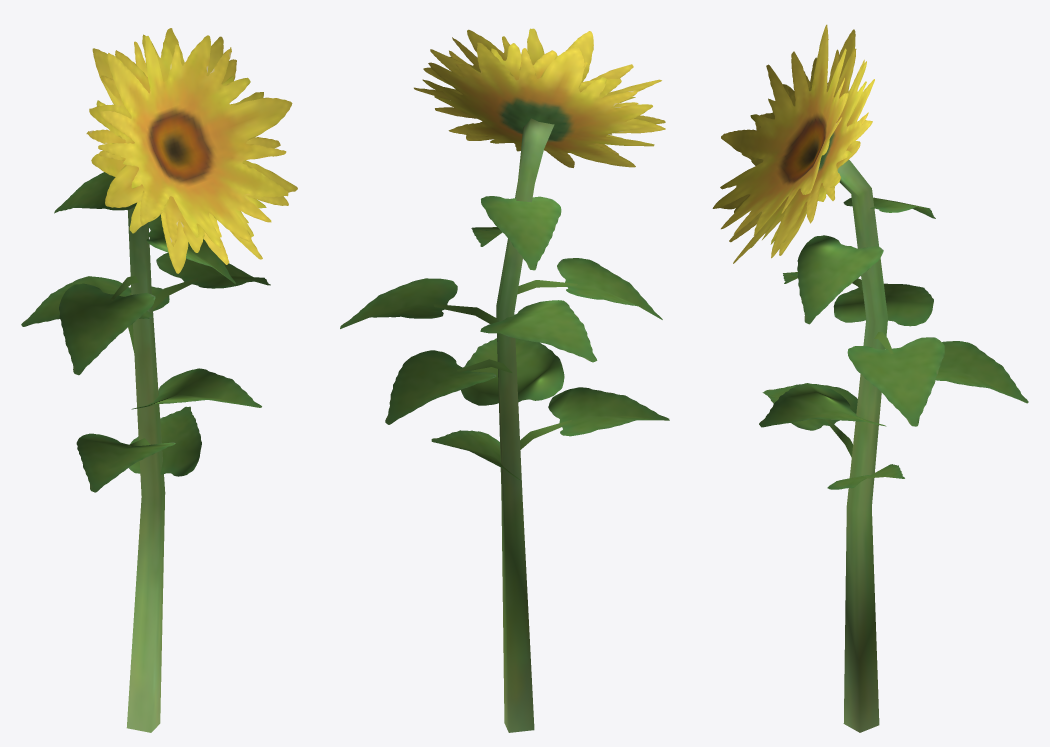
Rendered from P_Sunflower1.obj.
3 renders of one model, left to right at view 1: azimuth 30°, elevation 25°; view 2: azimuth 150°, elevation 25°; view 3: azimuth 270°, elevation 25°, orthographic. The views are drawn at different scales.
Size of the model in its own units: 0.6701 by 1.71 by 0.7366.
